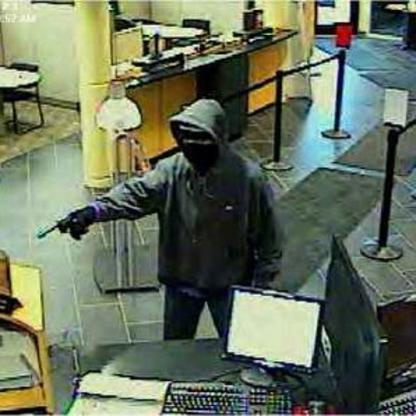pistols: (30, 207, 94, 244)
